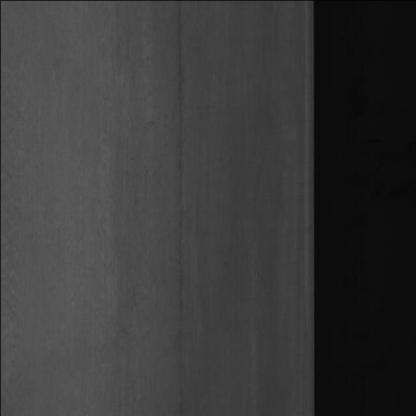water_spot: (172, 0, 194, 367)
